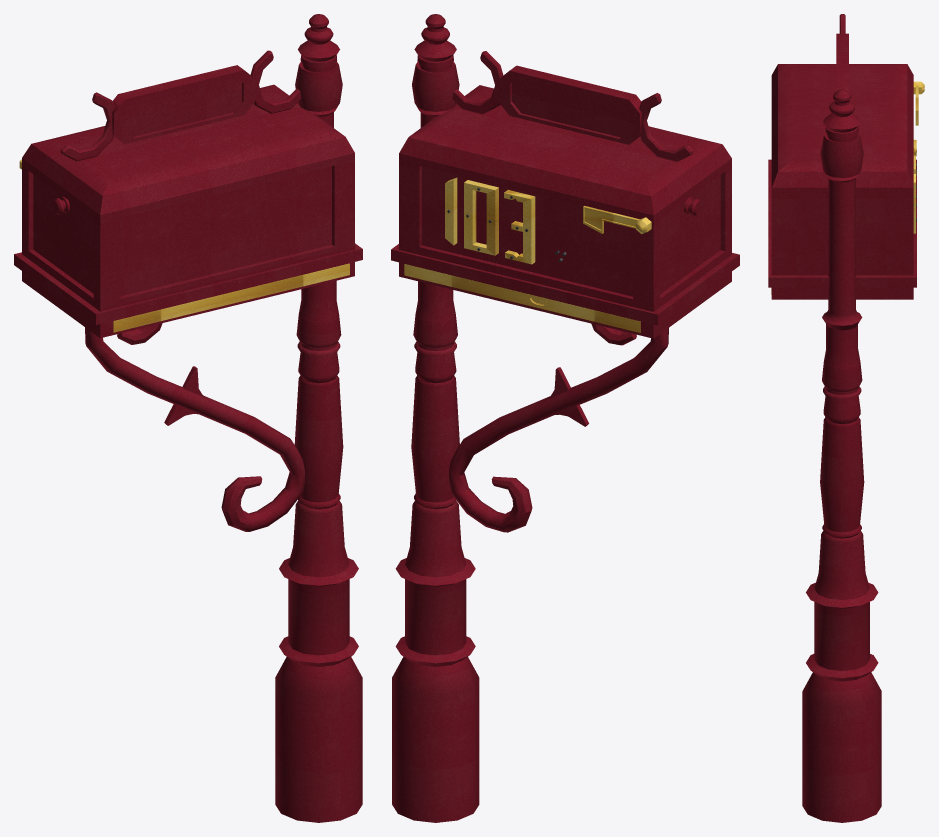
The model's file is Mailbox.fbx.
3 views of the same model, side by side, from view 1: azimuth 30°, elevation 25°; view 2: azimuth 150°, elevation 25°; view 3: azimuth 270°, elevation 25° (orthographic). The views are drawn at different scales.
Parts seen in each view (by area): view 1: Post_R, Slider; view 2: Post_R, Hooks, Slider, Lip; view 3: Post_R.
Boxes of the visible parts, box(x1,y1,x2,y2) form: Post_R: box(14, 14, 362, 822); Slider: box(113, 263, 349, 332); Post_R: box(391, 14, 739, 822); Hooks: box(445, 177, 535, 264); Slider: box(404, 264, 640, 332); Lip: box(583, 206, 651, 233); Post_R: box(768, 14, 916, 822).
Bounding box in the file's own units: 6.72 × 16.8 × 3.32.
